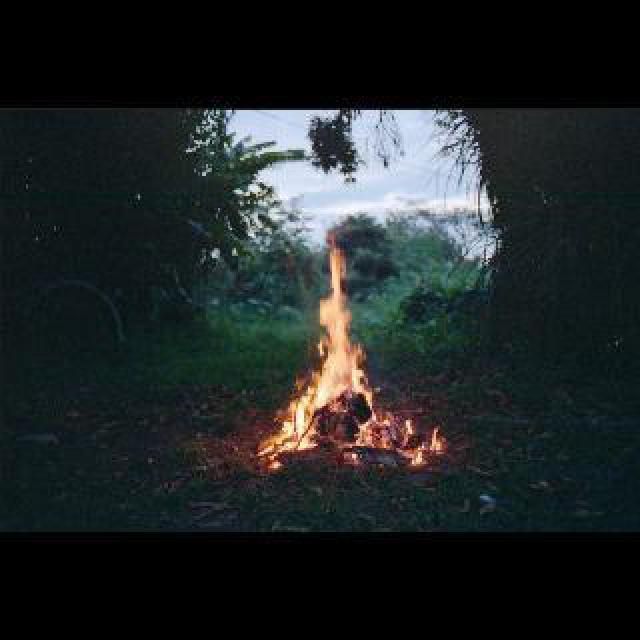Fire: (264, 228, 446, 474)
